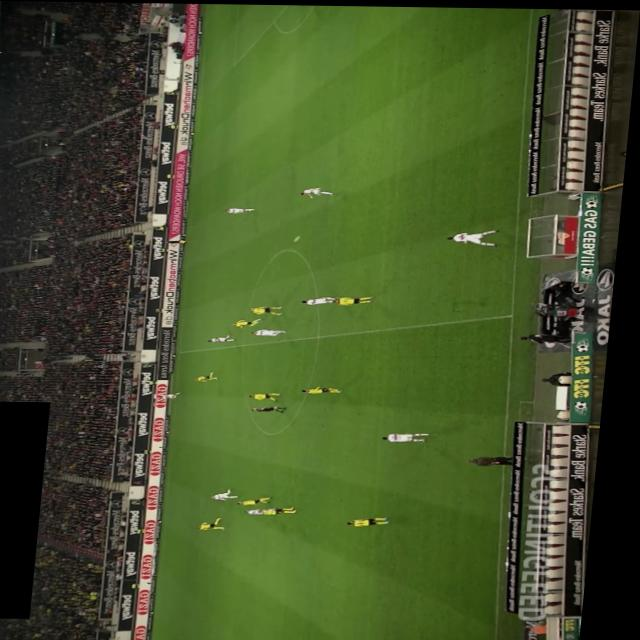player: (450, 226, 506, 245), (390, 430, 439, 440), (357, 514, 401, 525), (337, 293, 380, 304), (303, 185, 338, 197), (247, 494, 282, 505), (206, 516, 235, 529), (307, 294, 344, 304), (255, 304, 290, 314), (220, 486, 249, 498), (309, 384, 351, 392), (267, 505, 307, 513), (200, 369, 227, 380), (256, 391, 289, 400), (237, 317, 269, 326), (257, 327, 293, 335), (165, 390, 190, 400), (214, 333, 243, 341), (228, 206, 259, 212), (254, 506, 275, 513)
referee: (259, 404, 294, 411), (168, 237, 194, 243)
